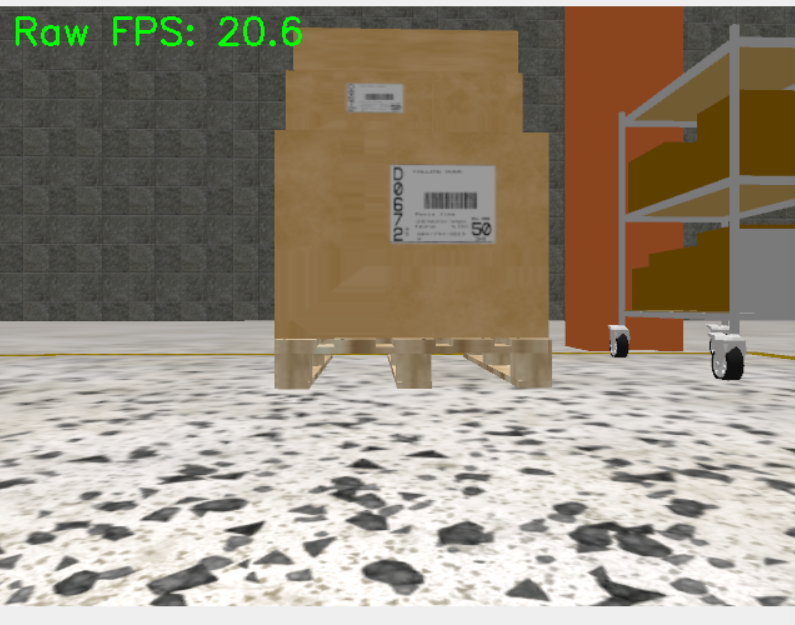barcode: (389, 163, 496, 245), (343, 82, 407, 115)
